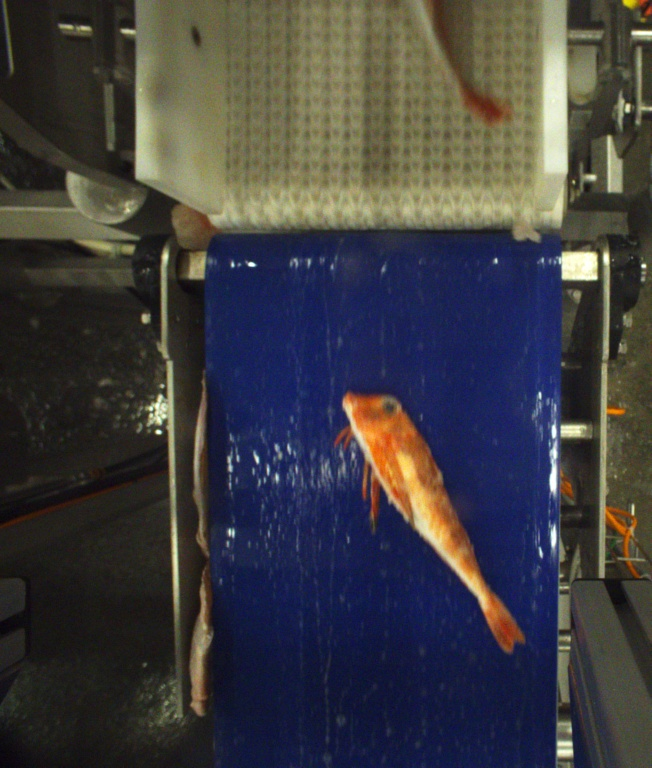GUU: (334, 392, 525, 654)
